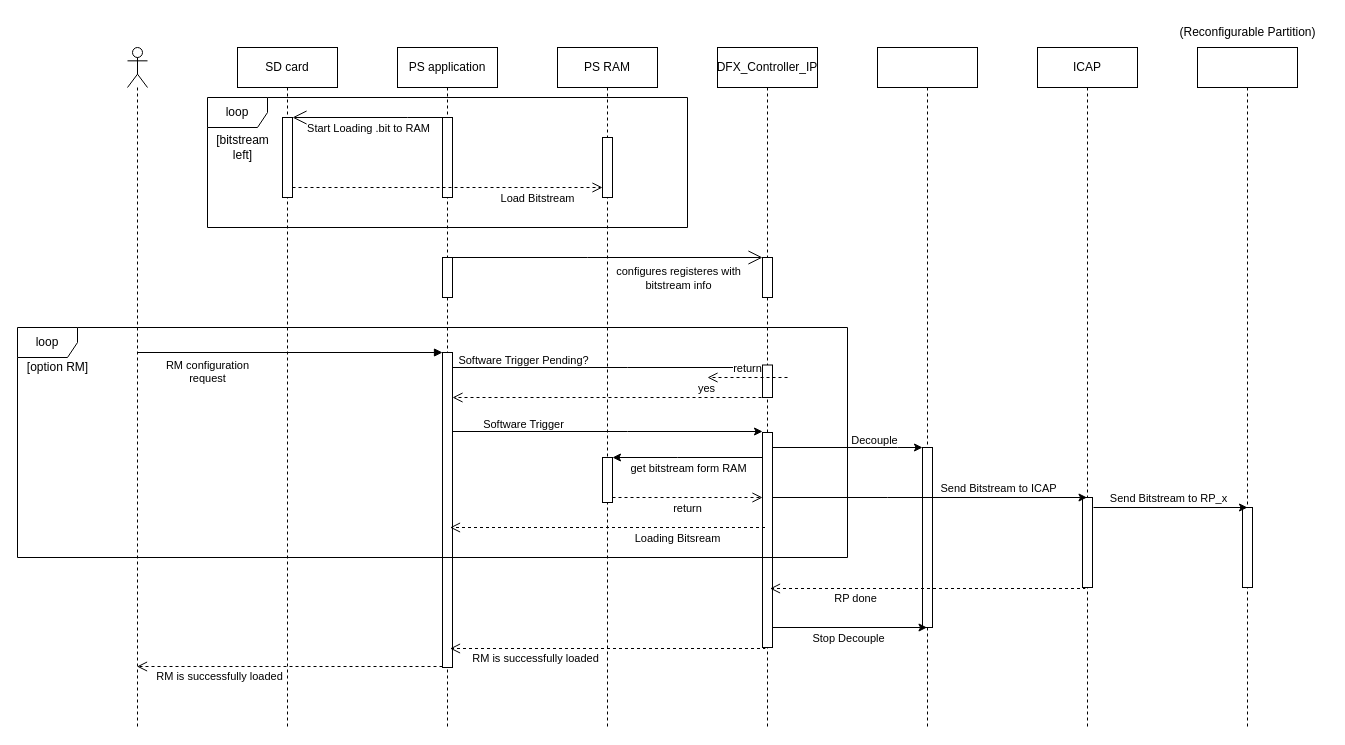
Some shapes in this 1345 by 745 pixel diagram are drawn without their labels. The box of each missing label's shape, as (x1, y1, x2, y2) in pixels:
DFX_Decoupler_IP: (876, 46, 978, 728)
RP_x: (1196, 46, 1298, 728)
